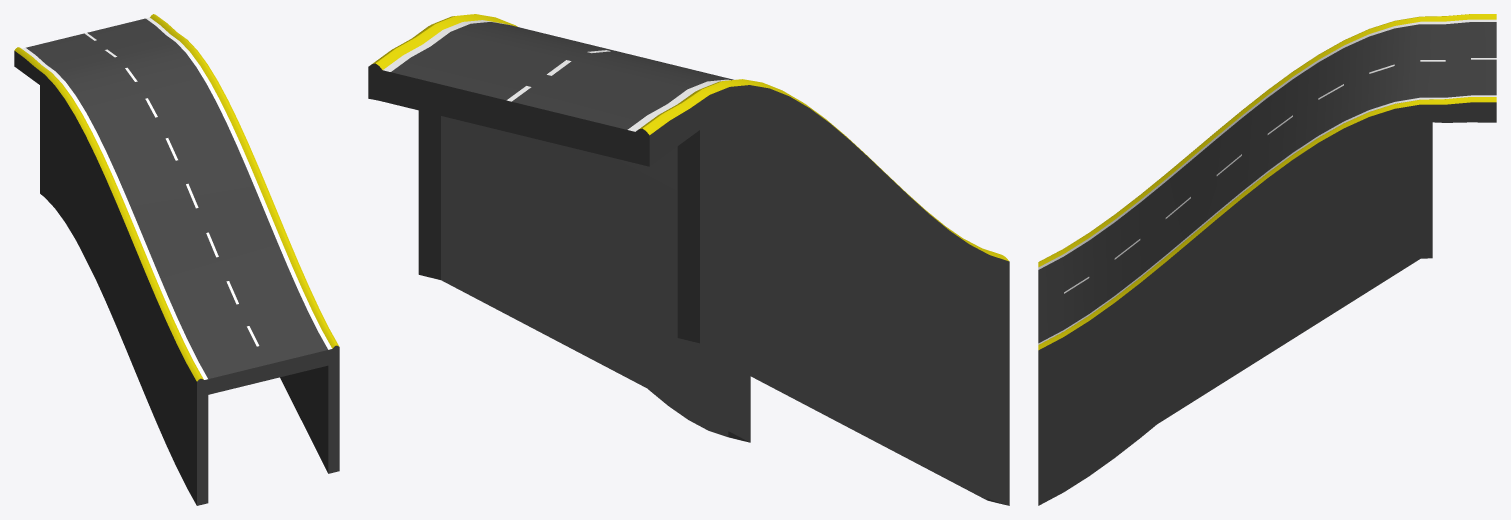
File: platform5.fbx
3 renders of one model, left to right at view 1: azimuth 30°, elevation 25°; view 2: azimuth 150°, elevation 25°; view 3: azimuth 270°, elevation 25°, orthographic. The views are drawn at different scales.
Parts seen in each view (by area): view 1: Cube.003; view 2: Cube.003; view 3: Cube.003.
Boxes of the visible parts, left/top/right/bottom form: Cube.003: left=14, top=14, right=339, bottom=505; Cube.003: left=368, top=14, right=1009, bottom=505; Cube.003: left=1038, top=14, right=1496, bottom=505.
Bounding box in the file's own units: 572 × 1241 × 1267.
1 material, 1 textured.
